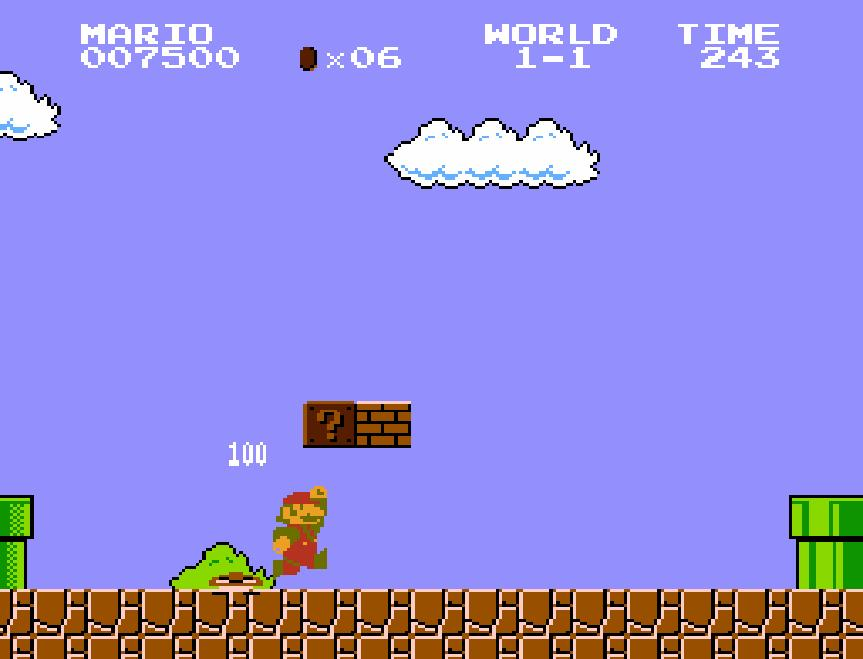big_mario: (270, 484, 328, 582)
